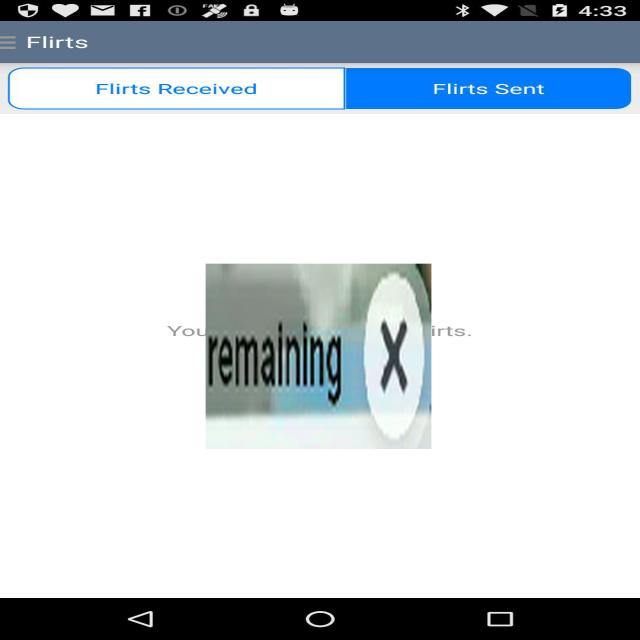misdirection: (206, 264, 432, 449)
